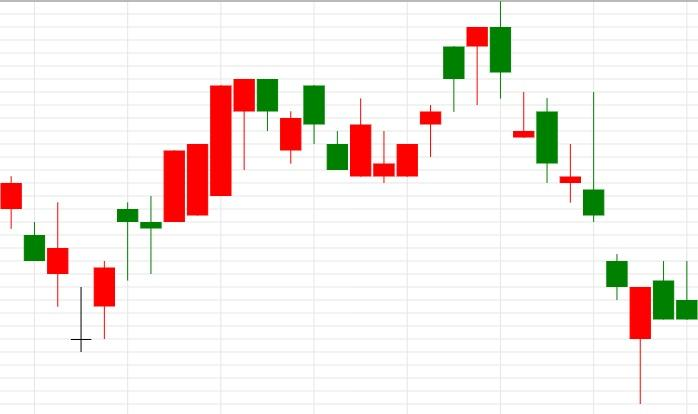hanging_man_fall: (71, 79, 256, 353), (372, 26, 489, 184)
